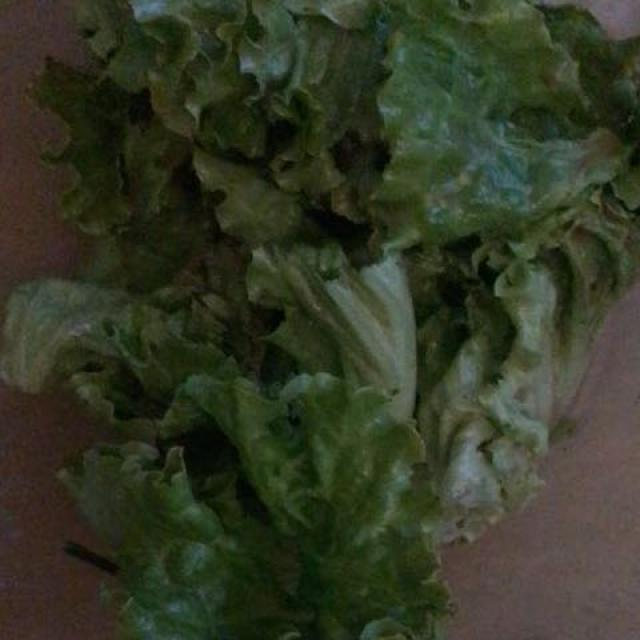salad: (25, 6, 629, 601)
